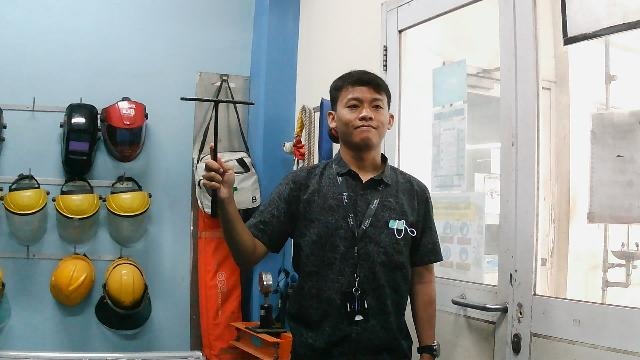kunci_t: (177, 92, 259, 220)
